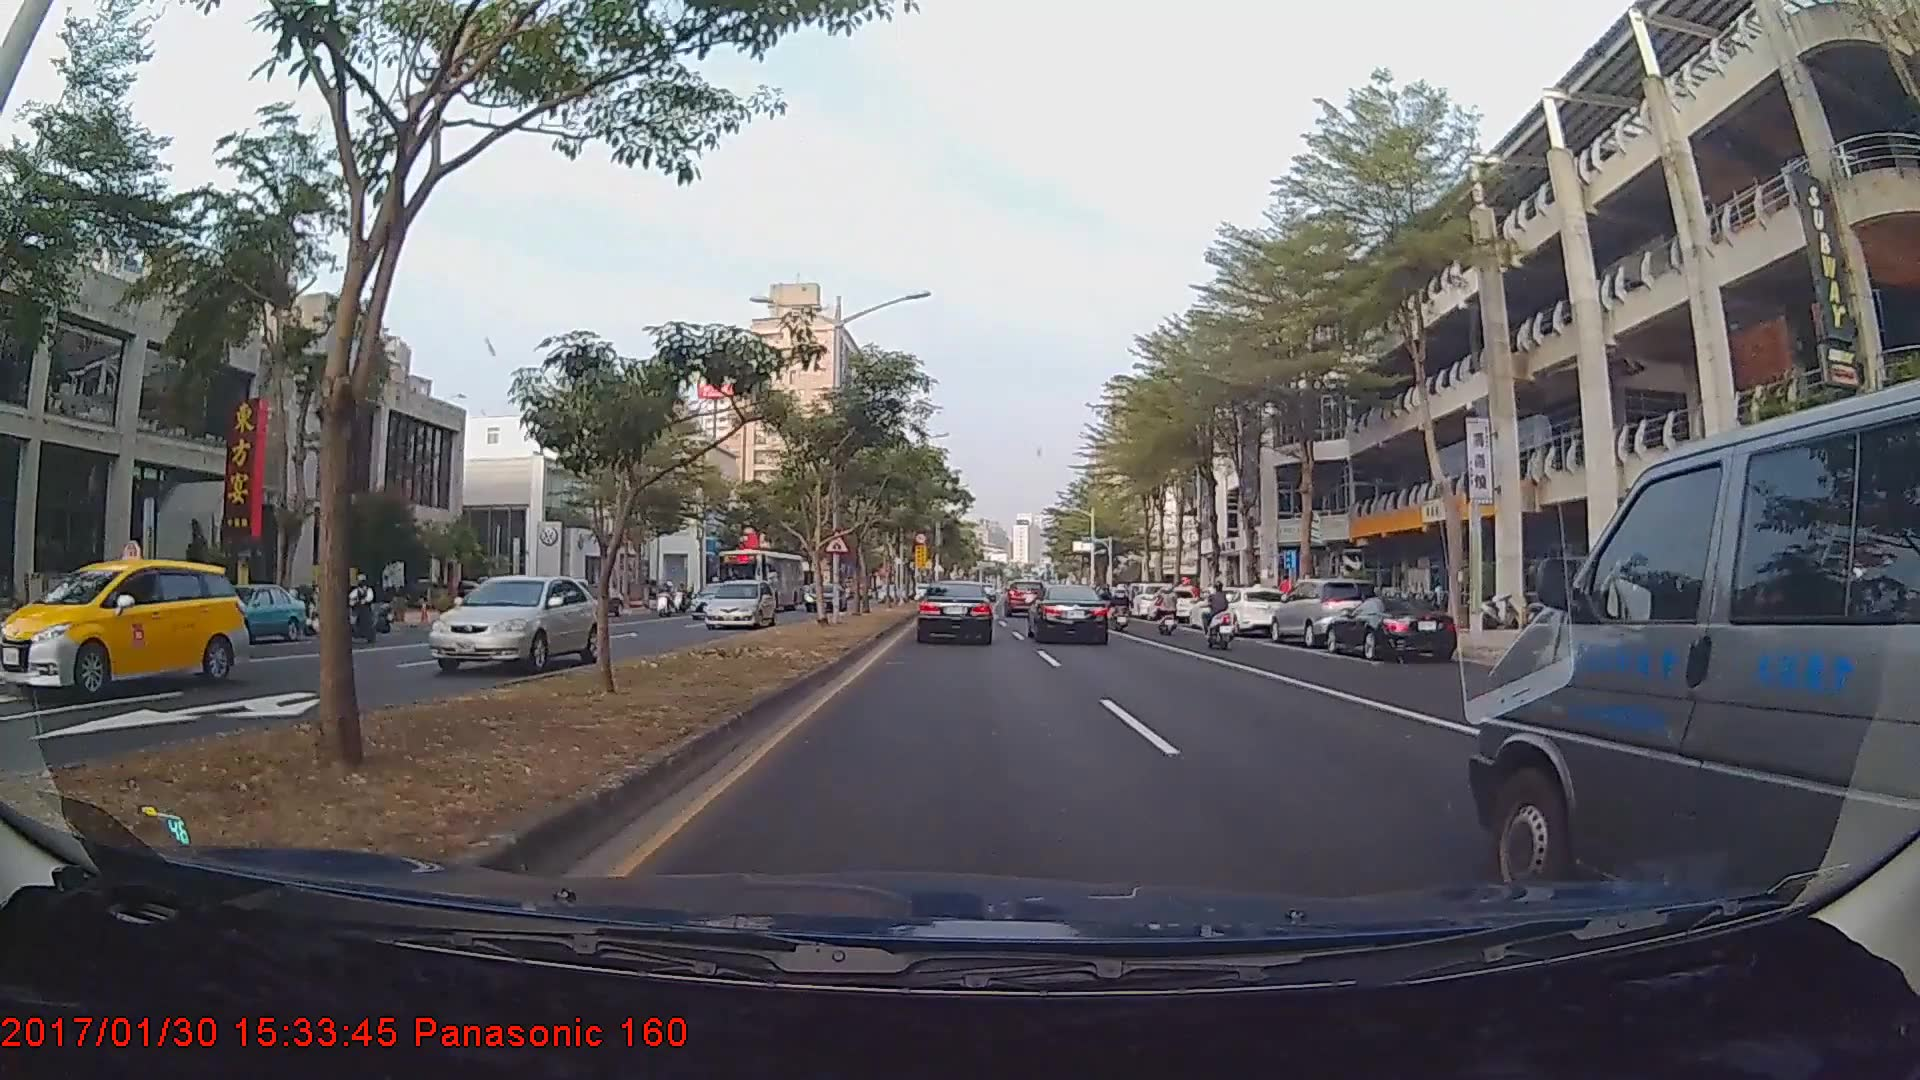rider: (1200, 581, 1242, 655), (1149, 582, 1184, 642), (1109, 584, 1133, 635)
vehicle: (1483, 413, 1914, 900), (0, 558, 250, 701), (424, 573, 601, 671), (1323, 595, 1460, 661), (1273, 577, 1385, 651), (714, 548, 805, 616), (209, 583, 308, 641), (915, 580, 995, 645), (1030, 581, 1110, 645), (700, 578, 779, 629), (1214, 585, 1288, 636), (1184, 585, 1245, 629), (686, 582, 741, 618), (1004, 576, 1048, 614), (803, 580, 849, 613)
